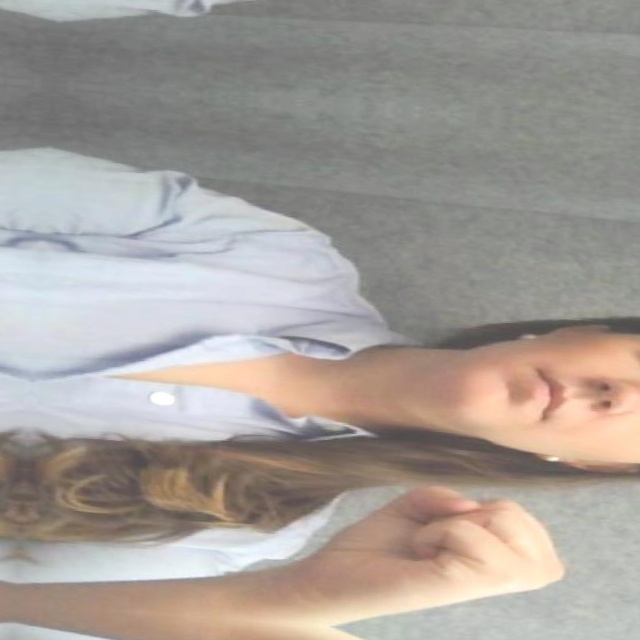Rock: (312, 463, 576, 621)
